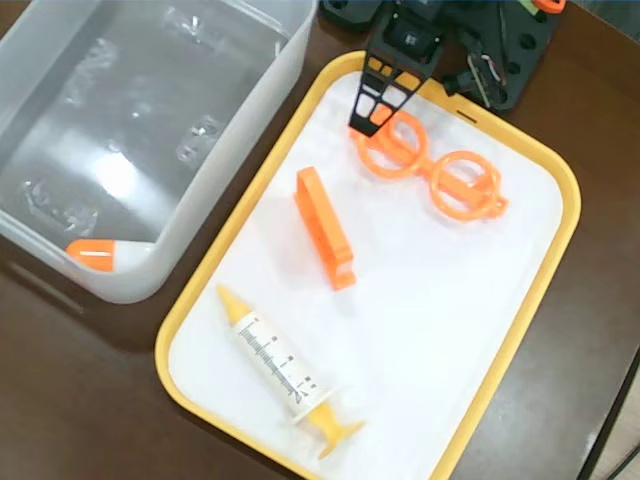pill: (64, 235, 161, 272)
syringe: (213, 281, 363, 456)
